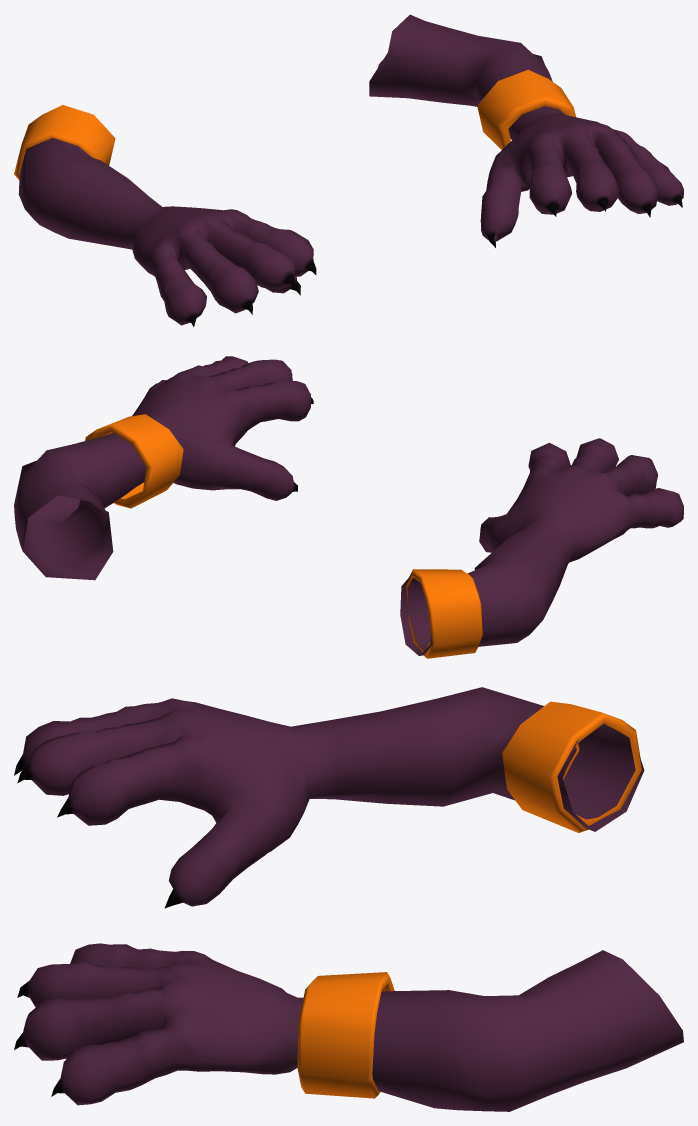
The model's file is Anubis.fbx.
The picture shows the model from 3 angles, top to bottom: view 1: azimuth 30°, elevation 25°; view 2: azimuth 150°, elevation 25°; view 3: azimuth 270°, elevation 25°; orthographic projection. The views are drawn at different scales.
Parts seen in each view (by area): view 1: polySurface154; view 2: polySurface154; view 3: polySurface154.
Boxes of the visible parts, x1,y1,x2,y2 form: polySurface154: [14, 14, 683, 326]; polySurface154: [14, 356, 683, 658]; polySurface154: [14, 687, 683, 1111].
Size of the model in its own units: 27.94 by 5.12 by 22.08.
1 material, 1 textured.
